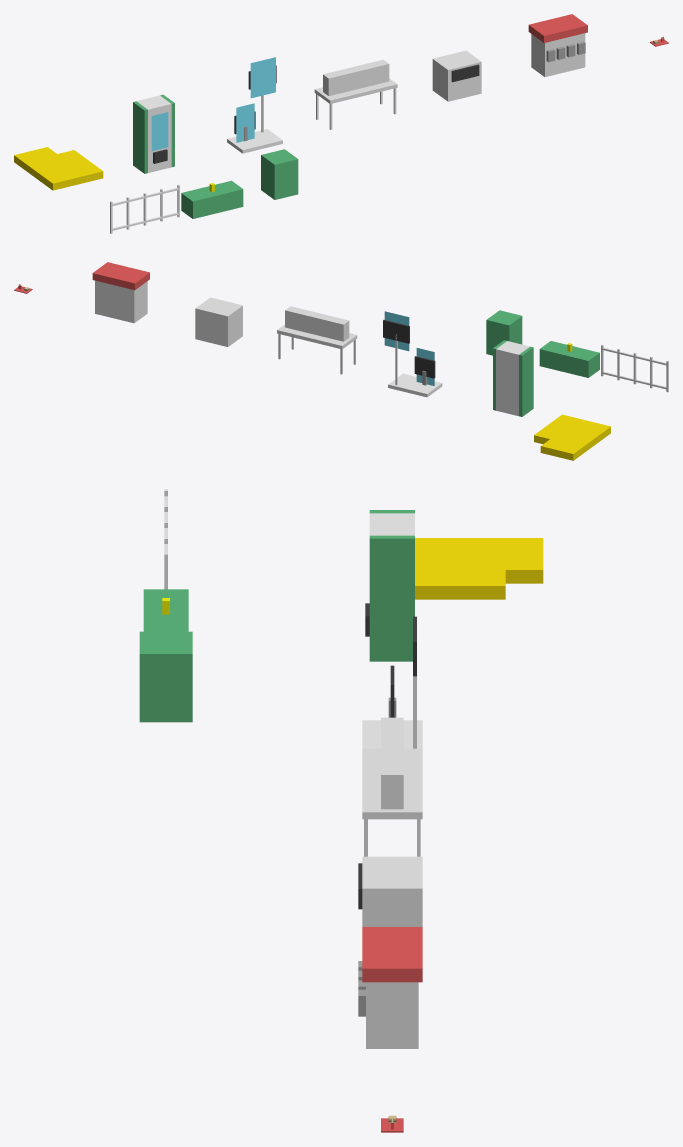
File: props.fbx
The picture shows the model from 3 angles, top to bottom: view 1: azimuth 30°, elevation 25°; view 2: azimuth 150°, elevation 25°; view 3: azimuth 270°, elevation 25°; orthographic projection. The views are drawn at different scales.
Parts seen in each view (by area): view 1: Ordering_Kiosk, Soda_Fountain, Kitchen_Prep_Station, Cash_Register_Station, McGeralds_G_Logo, Deep_Fryer, Planter, TrashCan, Fence_Section; view 2: Ordering_Kiosk, Soda_Fountain, Cash_Register_Station, Kitchen_Prep_Station, McGeralds_G_Logo, Deep_Fryer, Planter, TrashCan, Fence_Section; view 3: McGeralds_G_Logo, Soda_Fountain, Ordering_Kiosk, Kitchen_Prep_Station, TrashCan, Deep_Fryer, Planter, Cash_Register_Station.
Boxes of the visible parts, <box> form: Ordering_Kiosk: <box>133,94,174,173</box>; Soda_Fountain: <box>528,14,587,76</box>; Kitchen_Prep_Station: <box>314,59,397,129</box>; Cash_Register_Station: <box>227,57,282,153</box>; McGeralds_G_Logo: <box>14,147,103,190</box>; Deep_Fryer: <box>432,50,481,101</box>; Planter: <box>181,180,243,218</box>; TrashCan: <box>261,149,298,199</box>; Fence_Section: <box>110,184,179,233</box>; Ordering_Kiosk: <box>493,340,533,416</box>; Soda_Fountain: <box>92,262,149,323</box>; Cash_Register_Station: <box>383,311,442,397</box>; Kitchen_Prep_Station: <box>277,306,357,374</box>; McGeralds_G_Logo: <box>534,414,610,460</box>; Deep_Fryer: <box>195,297,242,346</box>; Planter: <box>539,341,599,377</box>; TrashCan: <box>486,310,522,355</box>; Fence_Section: <box>601,344,668,392</box>; McGeralds_G_Logo: <box>415,538,543,599</box>; Soda_Fountain: <box>358,927,422,1048</box>; Ordering_Kiosk: <box>365,510,414,661</box>; Kitchen_Prep_Station: <box>362,717,422,856</box>; TrashCan: <box>139,631,192,722</box>; Deep_Fryer: <box>358,856,422,926</box>; Planter: <box>143,589,188,631</box>; Cash_Register_Station: <box>362,616,422,748</box>.
Size of the model in its own units: 1822 by 215 by 535.
